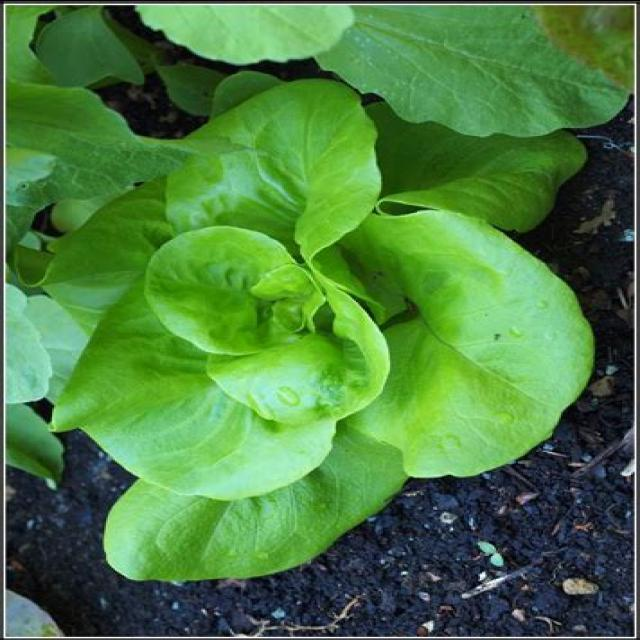healthy: (57, 119, 599, 537)
